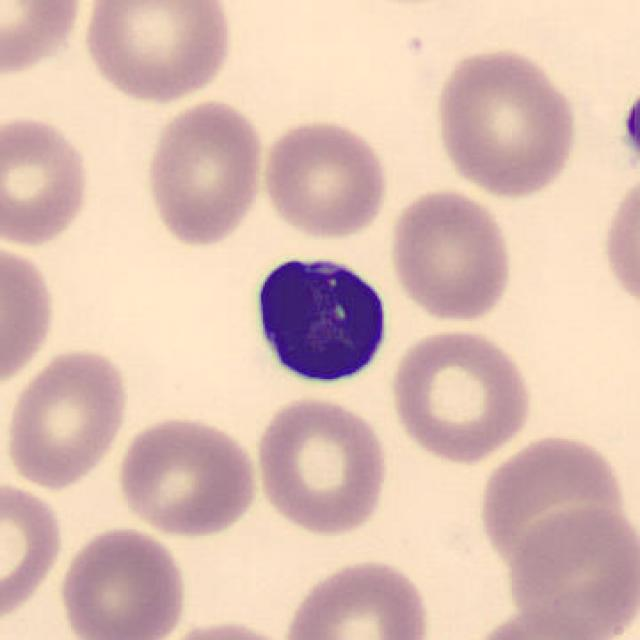Lymphocyte: (240, 242, 400, 393)
Platelets: (617, 85, 640, 169)
RBC: (431, 44, 582, 201), (473, 430, 631, 577), (386, 324, 537, 466), (251, 393, 393, 538), (142, 97, 268, 250), (2, 344, 132, 492), (114, 412, 261, 540), (504, 500, 636, 640), (386, 185, 517, 325), (258, 115, 393, 242), (78, 0, 236, 106), (55, 523, 190, 640), (0, 110, 96, 250), (279, 553, 433, 640), (0, 476, 68, 628), (0, 238, 59, 391), (0, 0, 87, 81), (597, 167, 640, 321), (460, 603, 622, 640), (151, 617, 302, 640)
